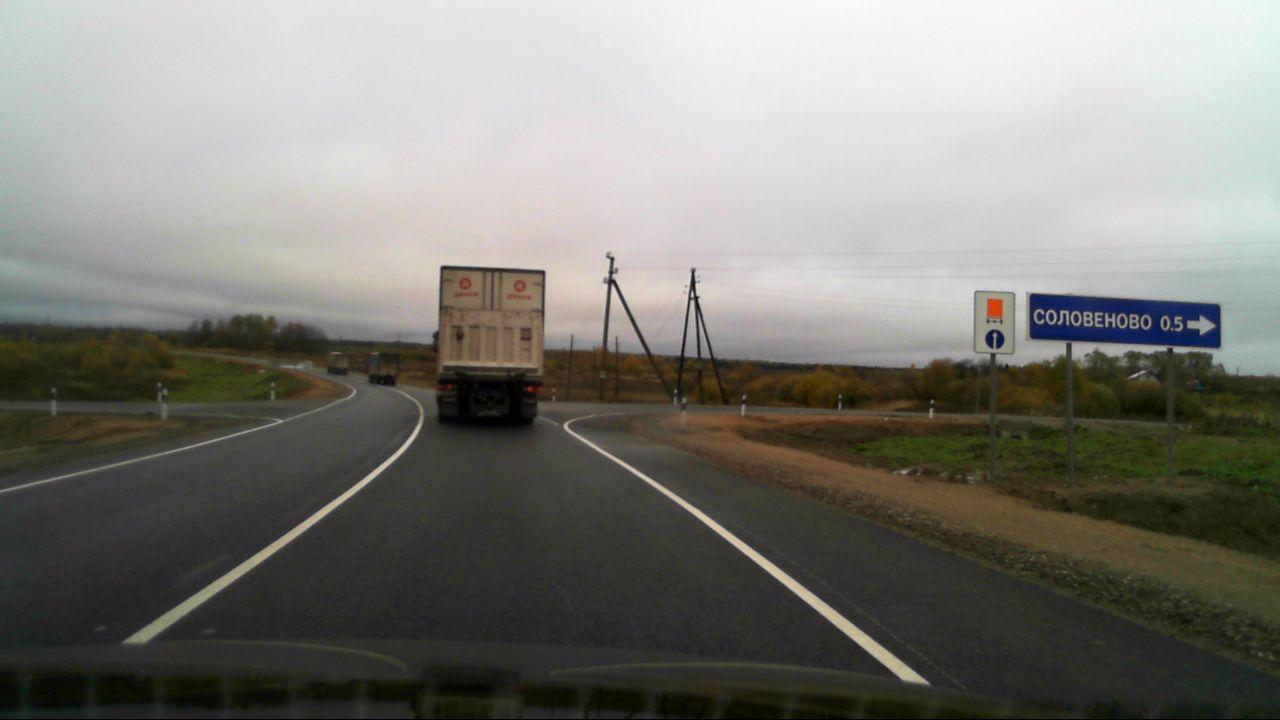4_8_1: (974, 290, 1017, 354)
6_10_1: (1030, 297, 1220, 346)
